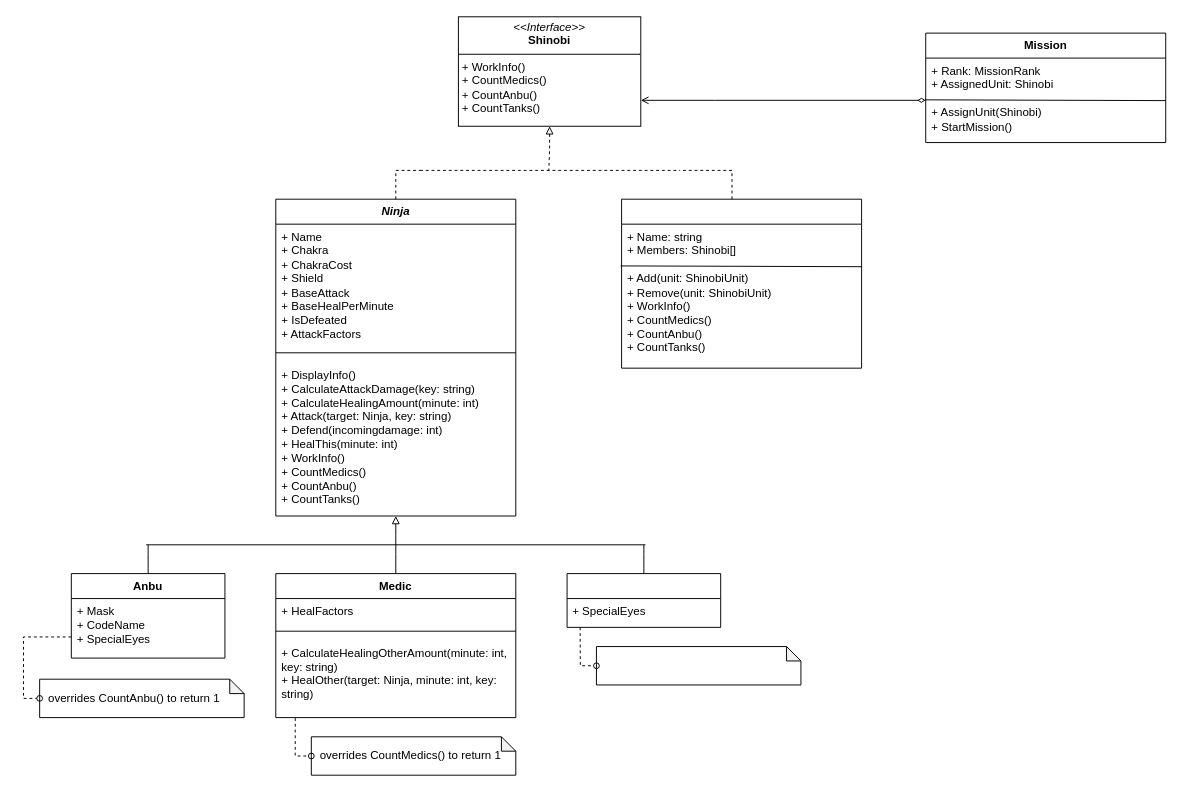
Image size: 1184x792. Some labels were removed from this diagram. Here are the shapes that lost their labels. From the top down, the box of each, then its label:
(621, 198, 862, 368): Squad
(566, 573, 721, 627): Tank
(595, 646, 801, 685): overrides CountTank() to return 1
